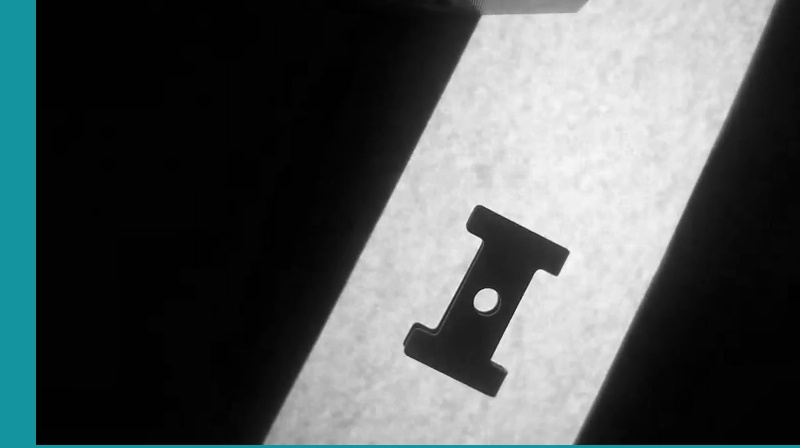O002: (400, 201, 572, 397)
